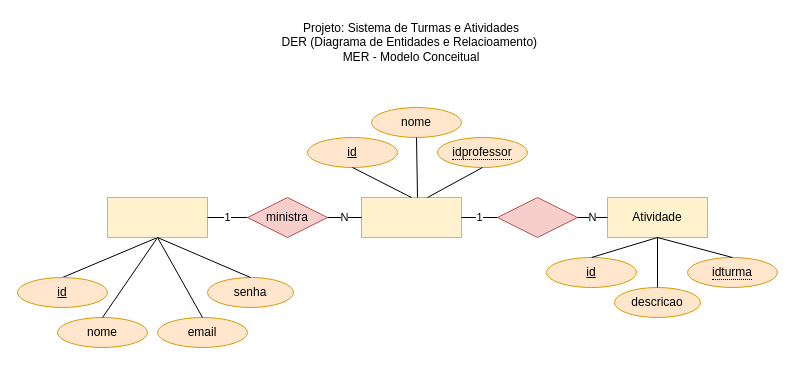
Some shapes in this 795 by 365 pixel diagram are drawn without their labels. The centre of each missing label's shape, as x and y in pixels:
possui: (537,217)
Professor: (157,217)
Turma: (411,217)
